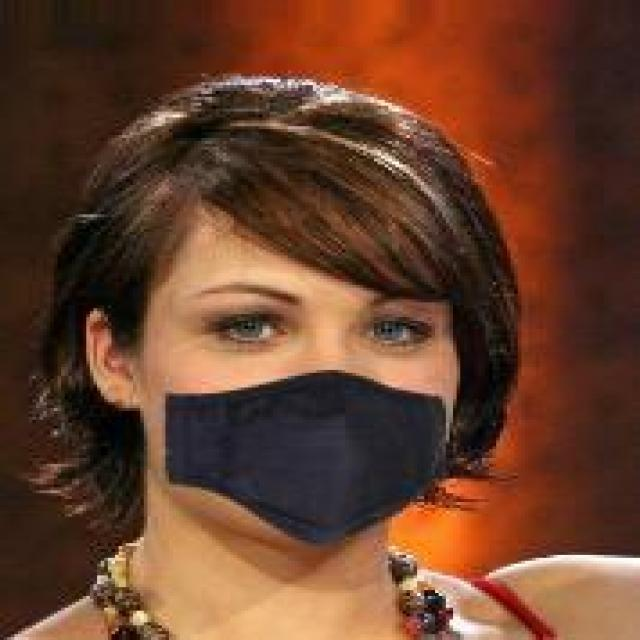mask: (54, 41, 568, 552)
